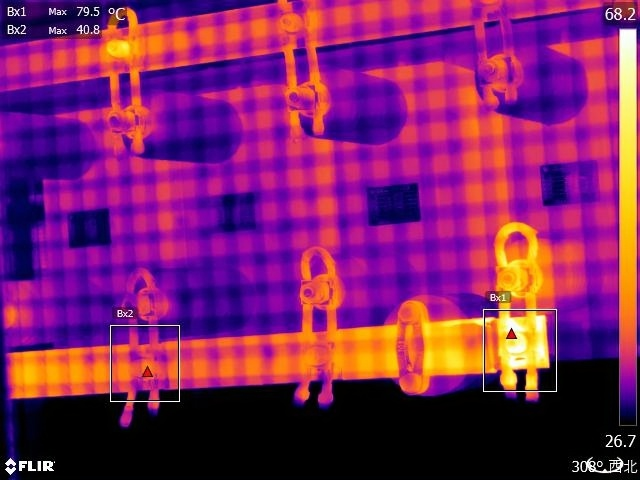clamp: (491, 203, 554, 405), (287, 239, 350, 407), (114, 264, 166, 422), (269, 1, 330, 122), (103, 6, 148, 144)
